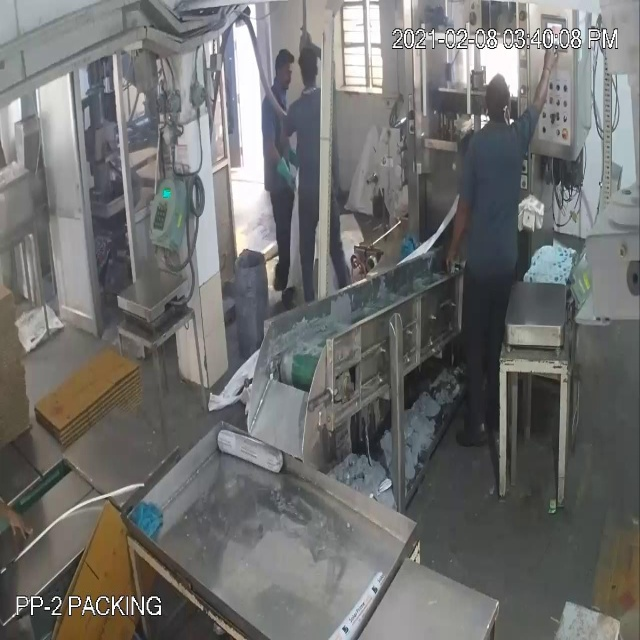Guantes: (261, 117, 297, 198)
Sin_guantes: (0, 481, 33, 569), (444, 194, 469, 282), (535, 43, 564, 116)
